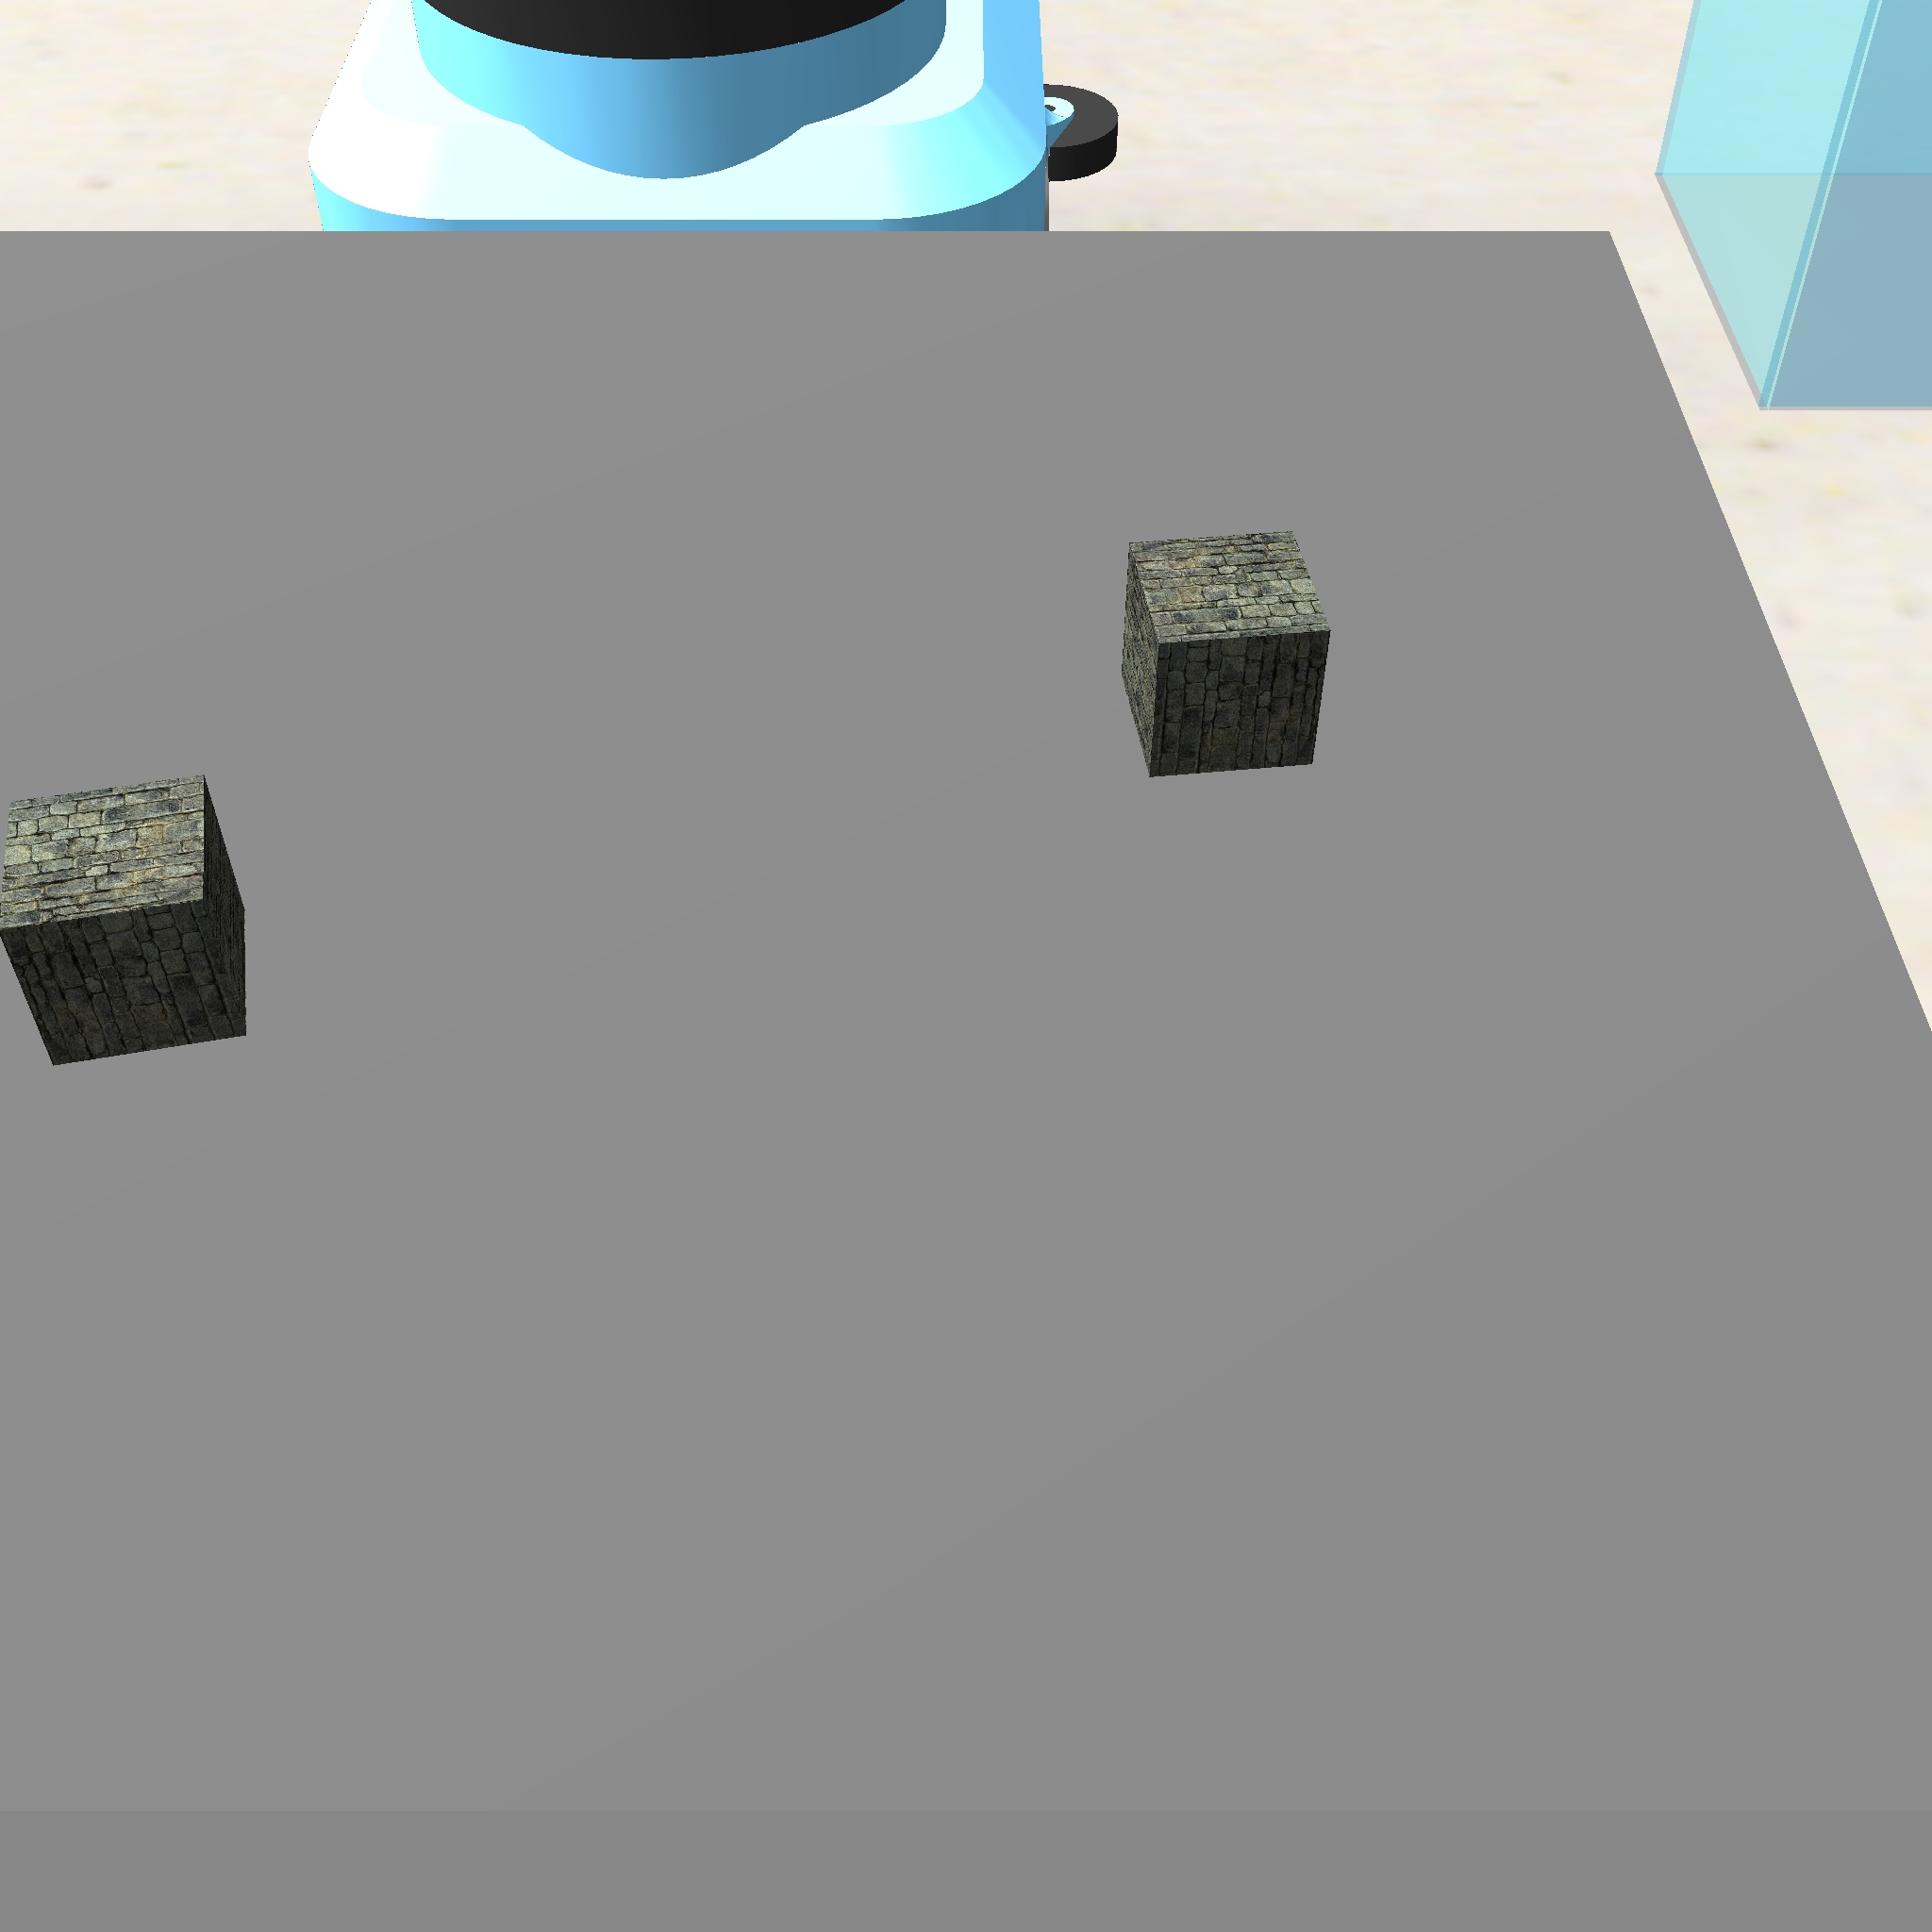cube: (0, 763, 262, 1076), (1113, 517, 1341, 791)
